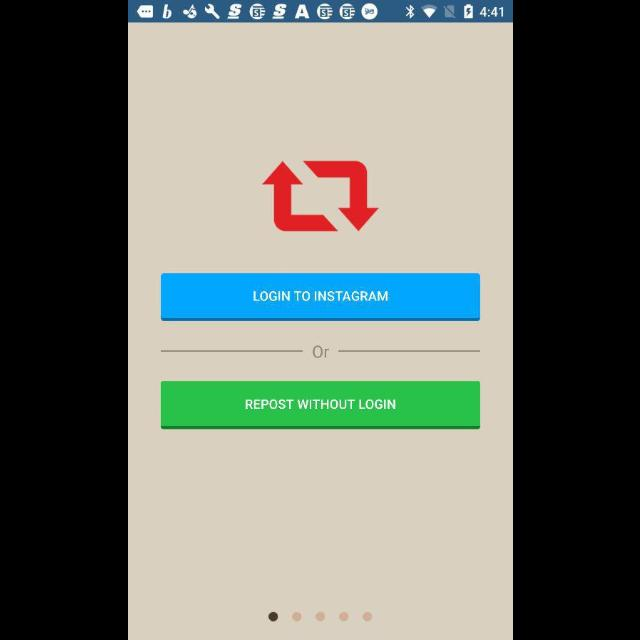icon: (261, 160, 379, 232)
pageindicator: (268, 612, 372, 622)
text: (312, 346, 328, 358)
textbutton: (160, 274, 480, 322), (160, 381, 480, 429)
uppertaskbar: (128, 1, 512, 23)
